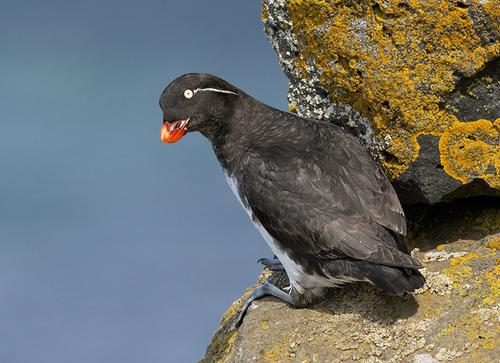007.Parakeet_Auklet: (158, 66, 429, 327)
